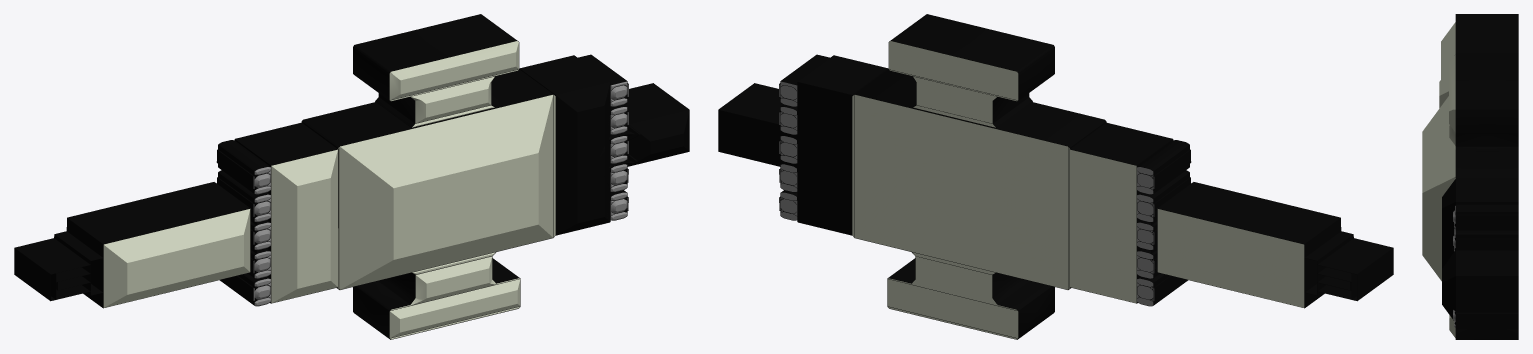
File: Asset 2.gltf
3 renders of one model, left to right at view 1: azimuth 30°, elevation 25°; view 2: azimuth 150°, elevation 25°; view 3: azimuth 270°, elevation 25°, orthographic. The views are drawn at different scales.
Bounding box in the file's own units: 0.2027 × 0.0814 × 0.0307.
